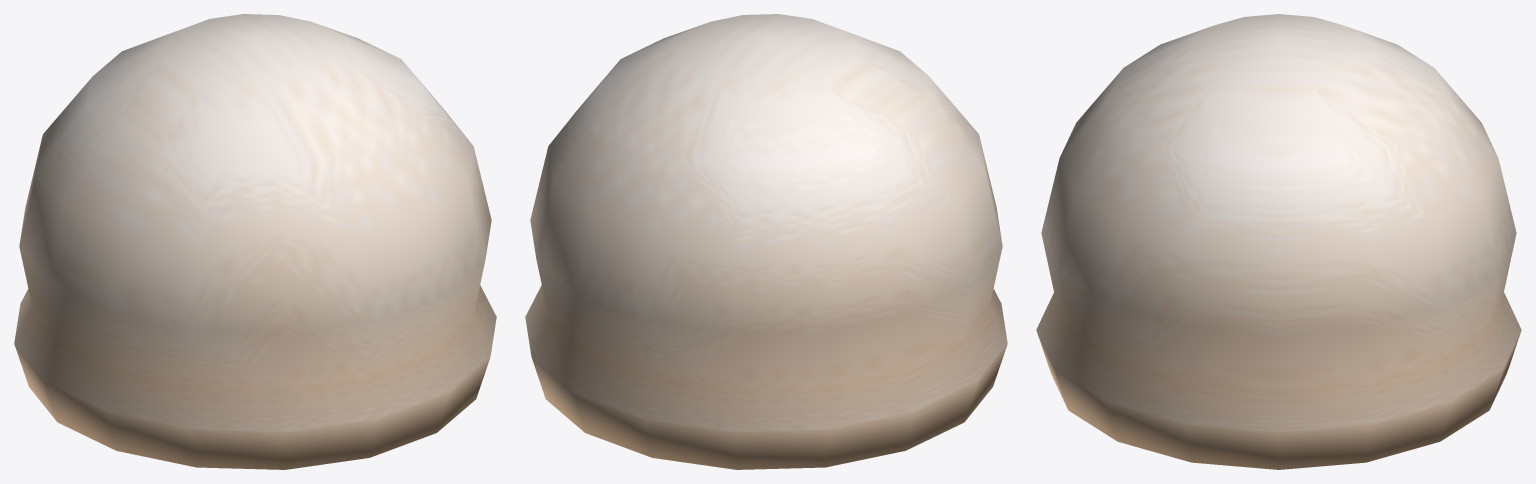
Rendered from icecream_bowl_icecream_vanilla.gltf.
3 renders of one model, left to right at view 1: azimuth 30°, elevation 25°; view 2: azimuth 150°, elevation 25°; view 3: azimuth 270°, elevation 25°, orthographic.
Visible parts, largest first — view 1: icecream_bowl_icecream_vanilla; view 2: icecream_bowl_icecream_vanilla; view 3: icecream_bowl_icecream_vanilla.
Part boxes in pixels (x1=…): icecream_bowl_icecream_vanilla: x1=14, y1=14, x2=496, y2=469; icecream_bowl_icecream_vanilla: x1=525, y1=14, x2=1007, y2=469; icecream_bowl_icecream_vanilla: x1=1036, y1=14, x2=1521, y2=469.
Size of the model in its own units: 0.45 by 0.36 by 0.45.
Materials: 1 (1 with a texture image).
